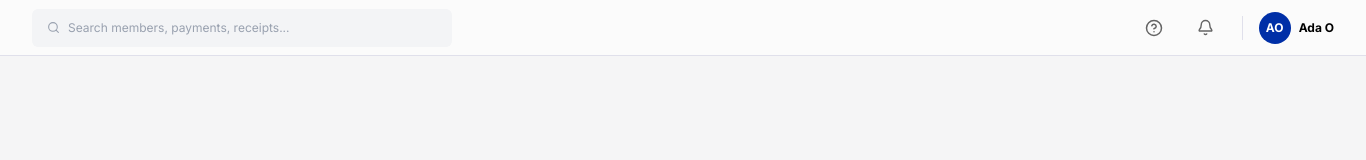
Test: Topbar search panel — derived visibility › shows the empty state when the search came back with nothing
Type "zz" into the field with placeholder "Search members, payments, receipts..." at (252, 28), box [68,20,437,36]
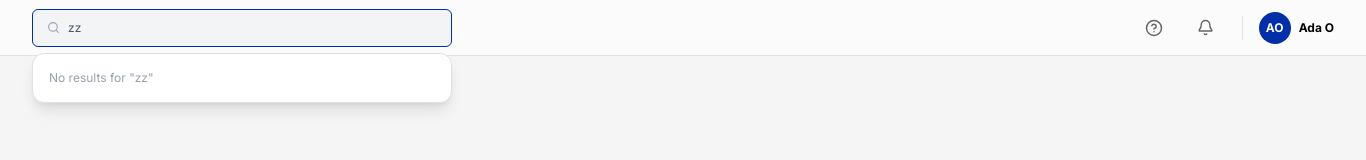
Check: the text "No results for \"zz\"" is shown, box [49,70,154,84]
